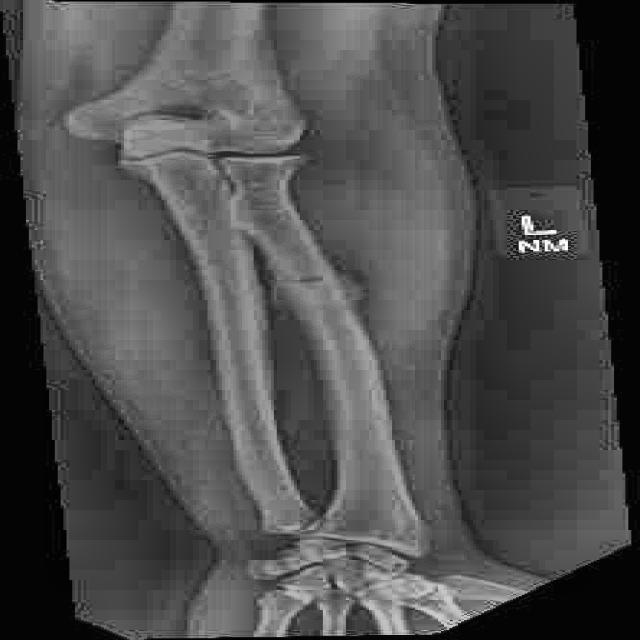forearm fracture: (243, 247, 411, 351)
